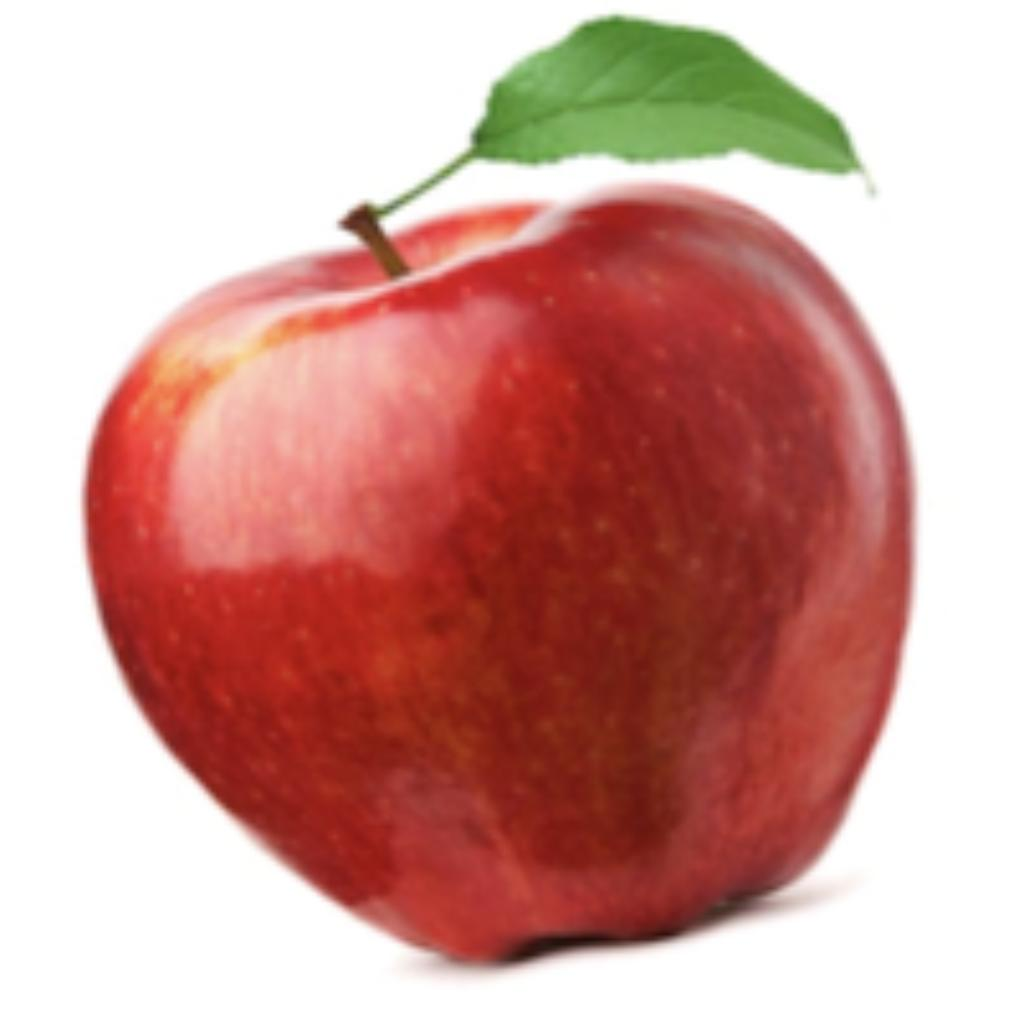apple: (72, 5, 922, 988)
